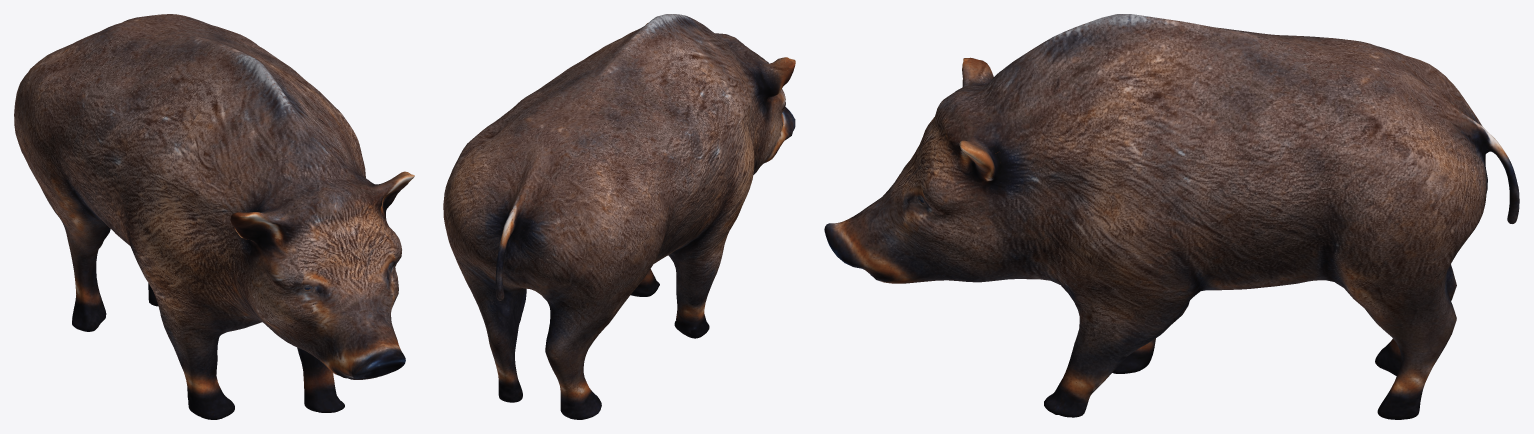
The model's file is uploads_files_5014816_Boar_Quad.fbx.
3 views of the same model, side by side, from view 1: azimuth 30°, elevation 25°; view 2: azimuth 150°, elevation 25°; view 3: azimuth 270°, elevation 25° (orthographic). The views are drawn at different scales.
Visible parts, largest first — view 1: Boar_Quad; view 2: Boar_Quad; view 3: Boar_Quad.
Boxes of the visible parts, <box> form: Boar_Quad: <box>14,14,414,419</box>; Boar_Quad: <box>443,14,795,419</box>; Boar_Quad: <box>824,14,1519,419</box>.
Size of the model in its own units: 65.34 by 95.63 by 158.
